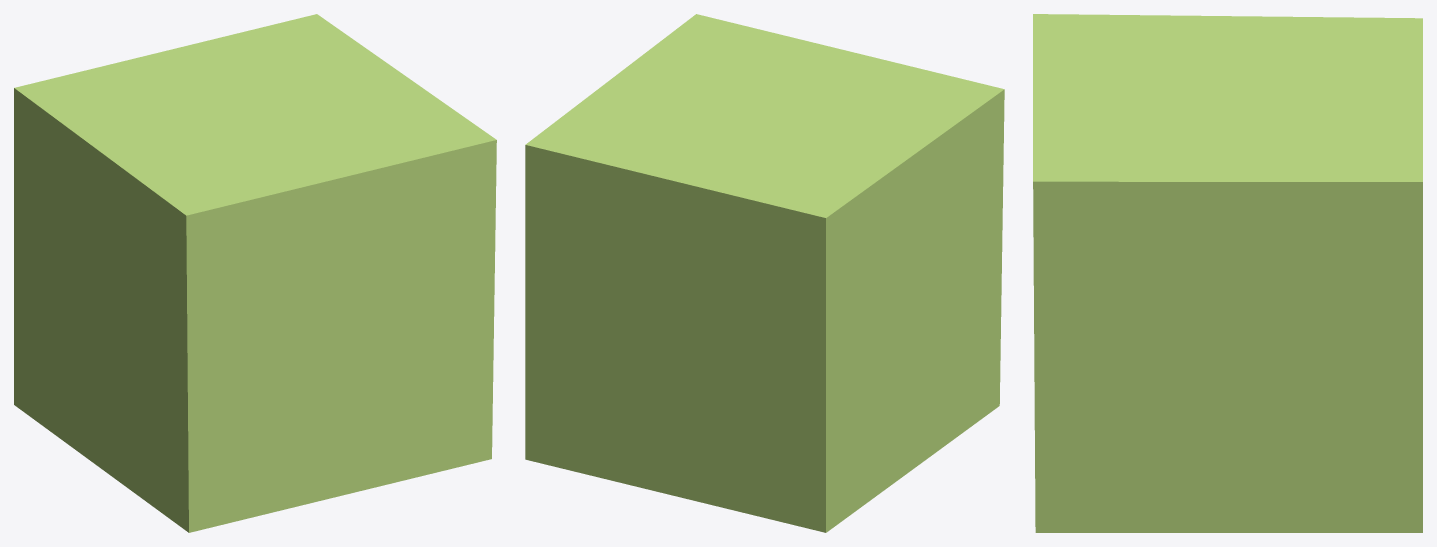
3 views of the same model, side by side, from view 1: azimuth 30°, elevation 25°; view 2: azimuth 150°, elevation 25°; view 3: azimuth 270°, elevation 25° (orthographic). The views are drawn at different scales.
Visible parts, largest first — view 1: Cube; view 2: Cube; view 3: Cube.
Part boxes in pixels (<box>): Cube: <box>14,14,496,532</box>; Cube: <box>525,14,1004,532</box>; Cube: <box>1033,14,1422,532</box>.
Bounding box in the file's own units: 205 × 201 × 201.
